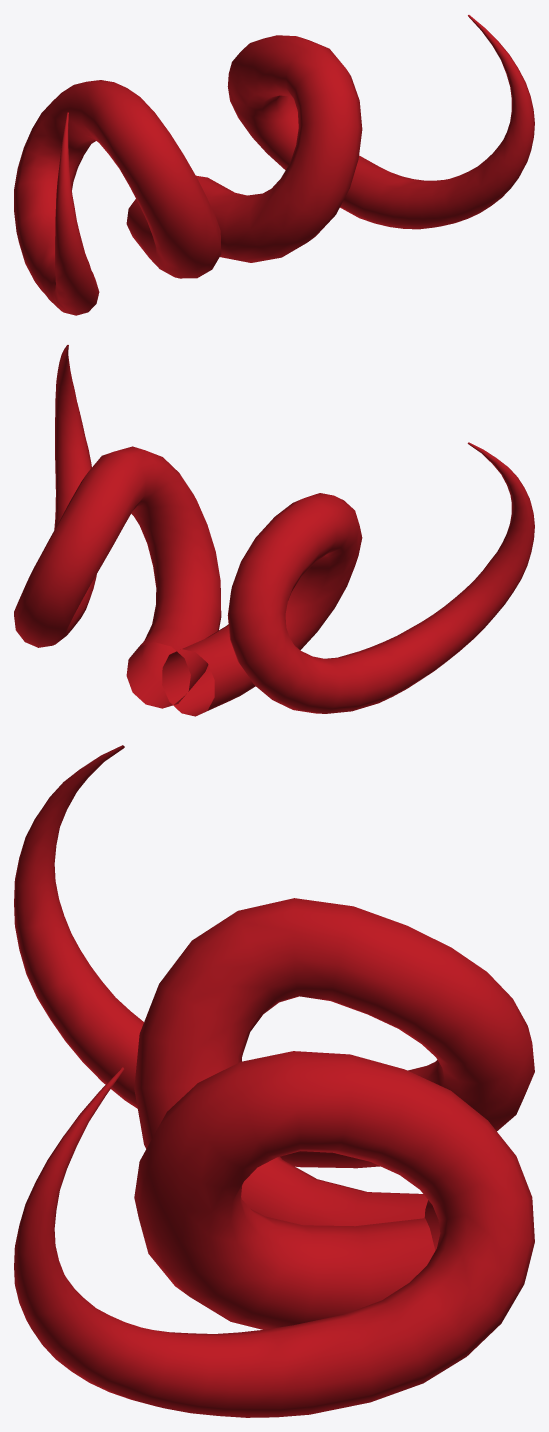
Rendered from HornBig.fbx.
3 renders of one model, top to bottom at view 1: azimuth 30°, elevation 25°; view 2: azimuth 150°, elevation 25°; view 3: azimuth 270°, elevation 25°, orthographic. The views are drawn at different scales.
Visible parts, largest first — view 1: HornBig; view 2: HornBig; view 3: HornBig.
Part boxes in pixels (<box>): HornBig: <box>14,15,534,315</box>; HornBig: <box>14,345,534,716</box>; HornBig: <box>14,745,534,1417</box>.
Size of the model in its own units: 76.66 by 38.22 by 44.14.
Materials: 1 (1 with a texture image).
